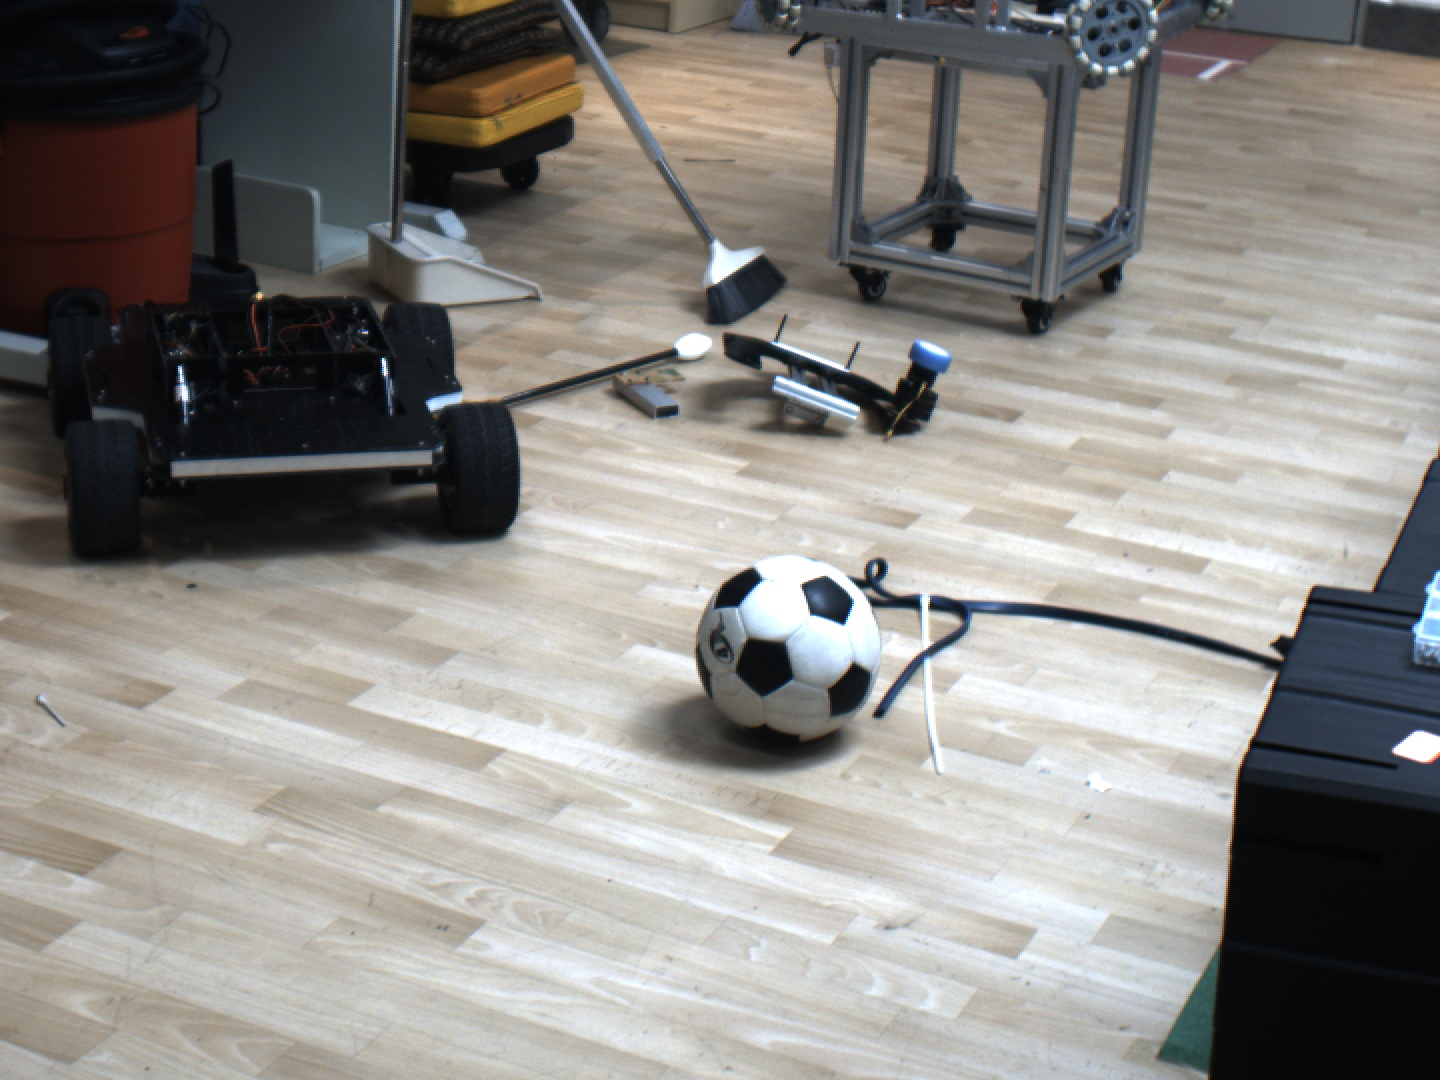ball: (685, 547, 904, 748)
